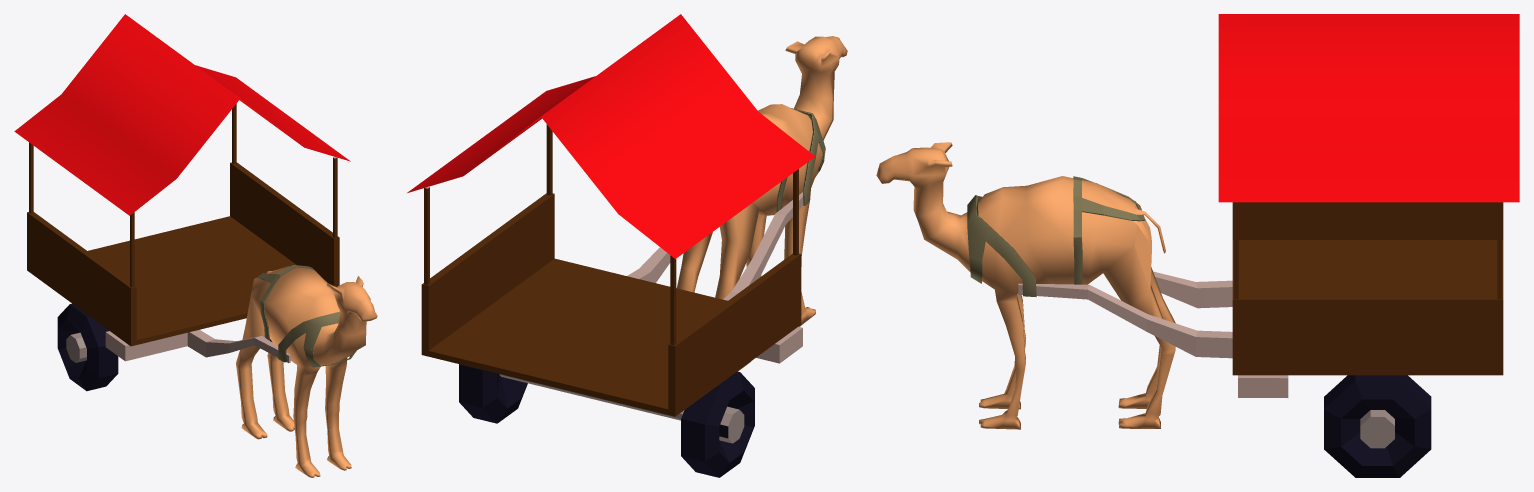
The picture shows the model from 3 angles, left to right: view 1: azimuth 30°, elevation 25°; view 2: azimuth 150°, elevation 25°; view 3: azimuth 270°, elevation 25°; orthographic projection. The views are drawn at different scales.
Visible parts, largest first — view 1: camelo; view 2: camelo; view 3: camelo.
Boxes of the visible parts, x1=… form: camelo: x1=14, y1=14, x2=377, y2=477; camelo: x1=407, y1=14, x2=847, y2=477; camelo: x1=876, y1=14, x2=1519, y2=477.
Bounding box in the file's own units: 15.49 × 20.59 × 29.84.
